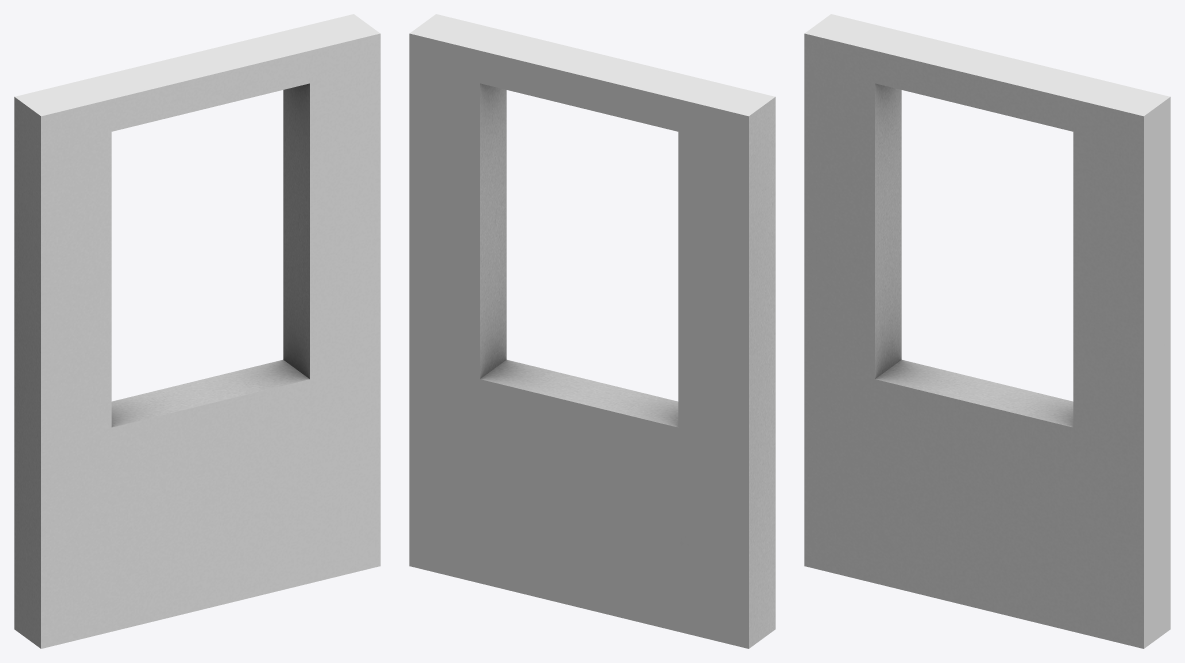
Rendered from salle_classe_mur02.fbx.
3 views of the same model, side by side, from view 1: azimuth 30°, elevation 25°; view 2: azimuth 150°, elevation 25°; view 3: azimuth 330°, elevation 25° (orthographic).
Visible parts, largest first — view 1: salle_classe_mur02; view 2: salle_classe_mur02; view 3: salle_classe_mur02.
Part boxes in pixels (<box>): salle_classe_mur02: <box>14,14,380,648</box>; salle_classe_mur02: <box>409,14,775,648</box>; salle_classe_mur02: <box>804,14,1170,648</box>.
Bounding box in the file's own units: 400 × 600 × 54.45.
